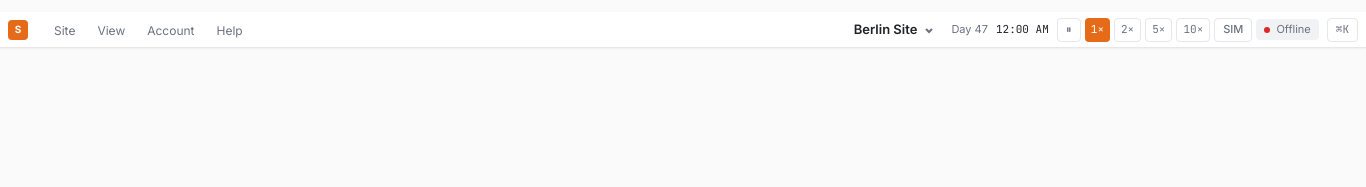
Scenario: <MenuBar /> › opens the project switcher popover when the project name is clicked
Click the button "Berlin Site".
click(895, 30)  # box [846,16,943,44]
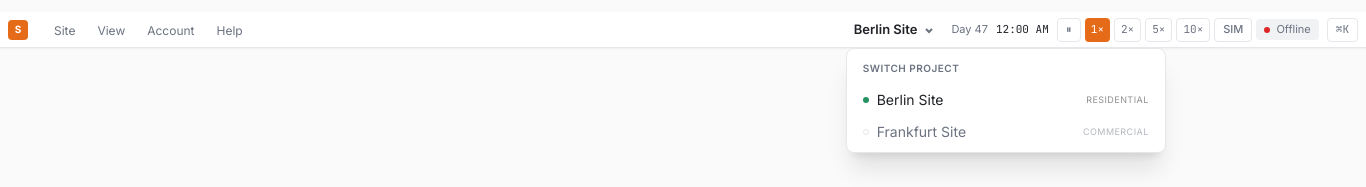
Now the text "Frankfurt Site" is shown, box [877,122,966,140]
Now the text "Switch project" is shown, box [863,62,959,74]
